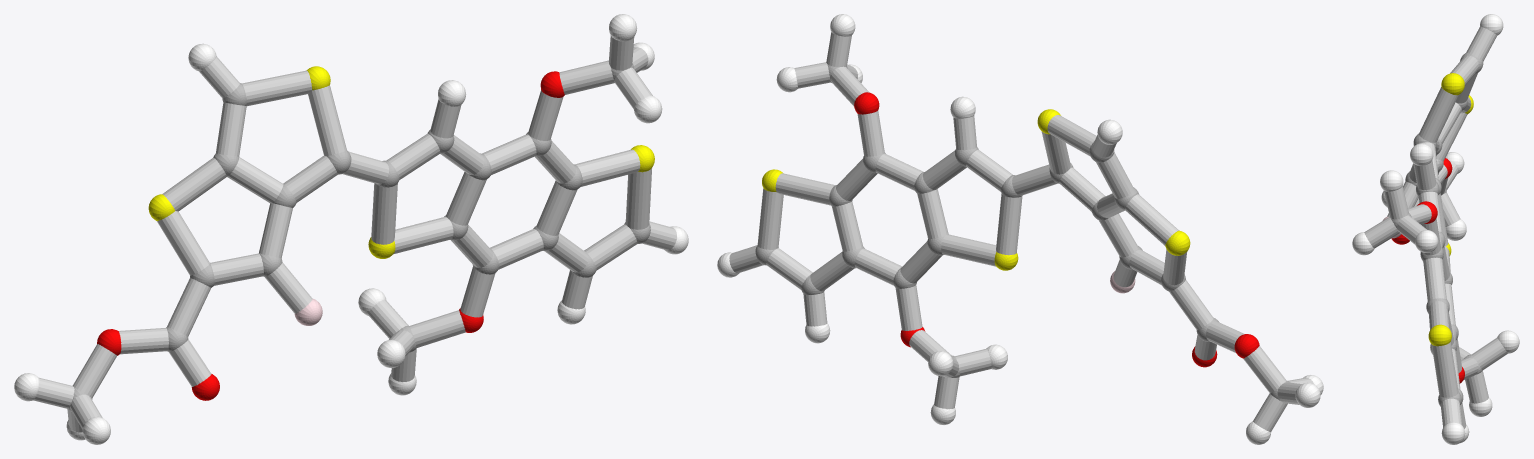
Rendered from color.glb.
The picture shows the model from 3 angles, left to right: view 1: azimuth 30°, elevation 25°; view 2: azimuth 150°, elevation 25°; view 3: azimuth 270°, elevation 25°; orthographic projection. The views are drawn at different scales.
Visible parts, largest first — view 1: grp15205, grp8689, grp1, grp13395, grp7241; view 2: grp15205, grp8689, grp1, grp7241, grp13395; view 3: grp15205, grp8689, grp1, grp7241, grp13395.
Part boxes in pixels (x1=…): grp15205: x1=33, y1=35, x2=676, y2=432; grp8689: x1=14, y1=14, x2=688, y2=444; grp1: x1=68, y1=63, x2=650, y2=411; grp13395: x1=97, y1=71, x2=564, y2=400; grp7241: x1=148, y1=66, x2=654, y2=258; grp15205: x1=729, y1=32, x2=1314, y2=431; grp8689: x1=717, y1=14, x2=1323, y2=444; grp1: x1=755, y1=65, x2=1289, y2=403; grp7241: x1=762, y1=109, x2=1190, y2=270; grp13395: x1=854, y1=92, x2=1259, y2=367; grp15205: x1=1364, y1=26, x2=1507, y2=428; grp8689: x1=1352, y1=14, x2=1519, y2=444; grp1: x1=1391, y1=52, x2=1483, y2=406; grp7241: x1=1428, y1=73, x2=1473, y2=346; grp13395: x1=1391, y1=158, x2=1464, y2=383.
Size of the model in its own units: 16.38 by 9.12 by 4.28.
